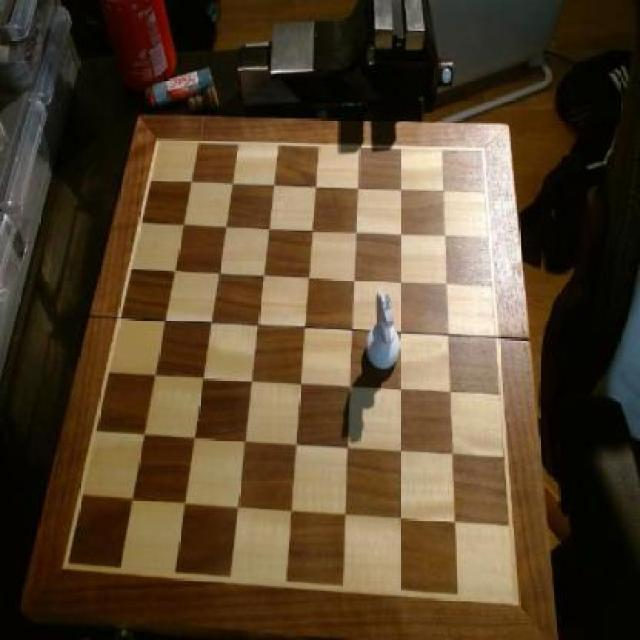white-king: (366, 286, 403, 372)
